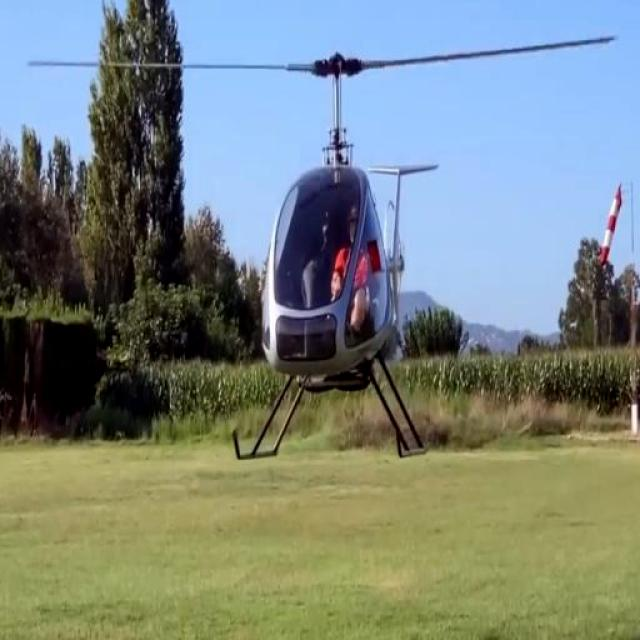drone: (24, 21, 626, 475)
